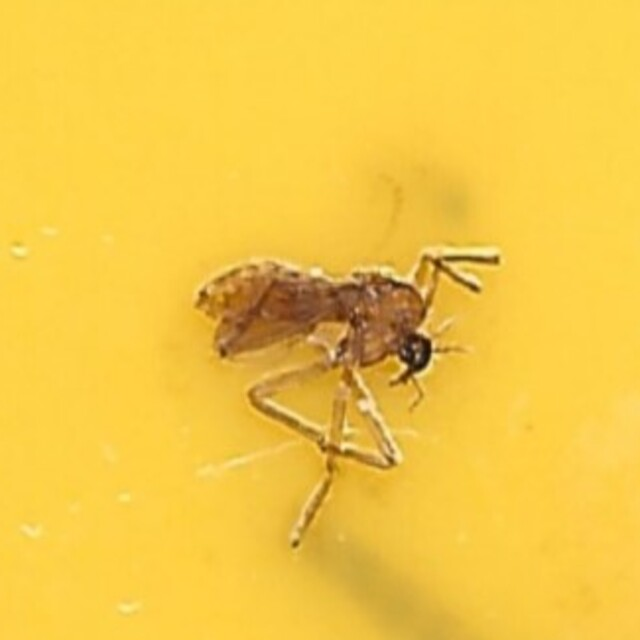Nematocera: (197, 235, 443, 405)
